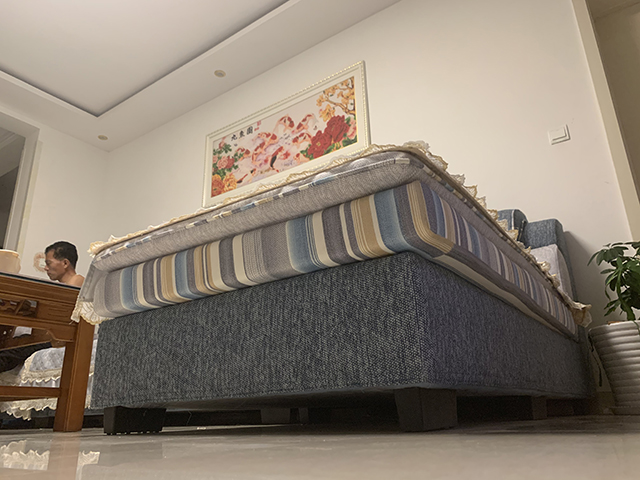bed: (70, 139, 602, 436)
table: (1, 271, 95, 436)
